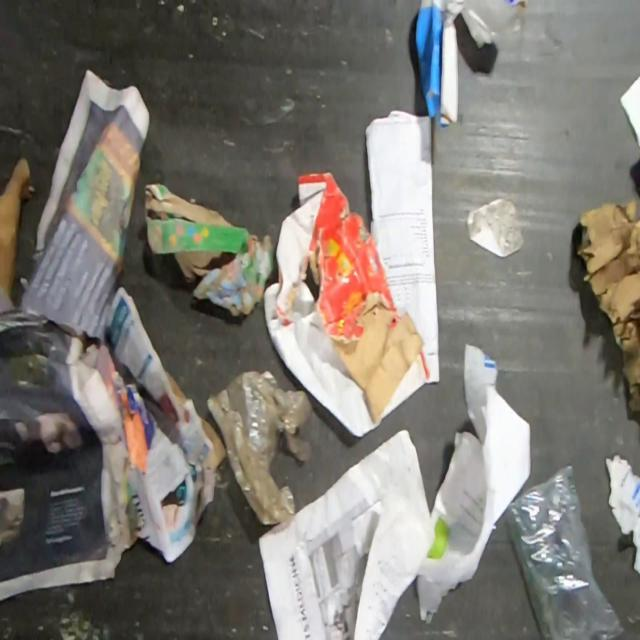cardboard: (262, 169, 430, 439), (573, 192, 640, 417), (123, 424, 217, 564), (141, 181, 261, 286), (414, 0, 499, 129), (96, 343, 158, 472), (0, 152, 37, 302), (200, 419, 227, 472), (166, 370, 187, 400)
soft_plastic: (503, 460, 629, 640), (204, 368, 314, 529)
